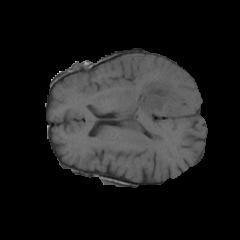glioma: (115, 71, 196, 121)
